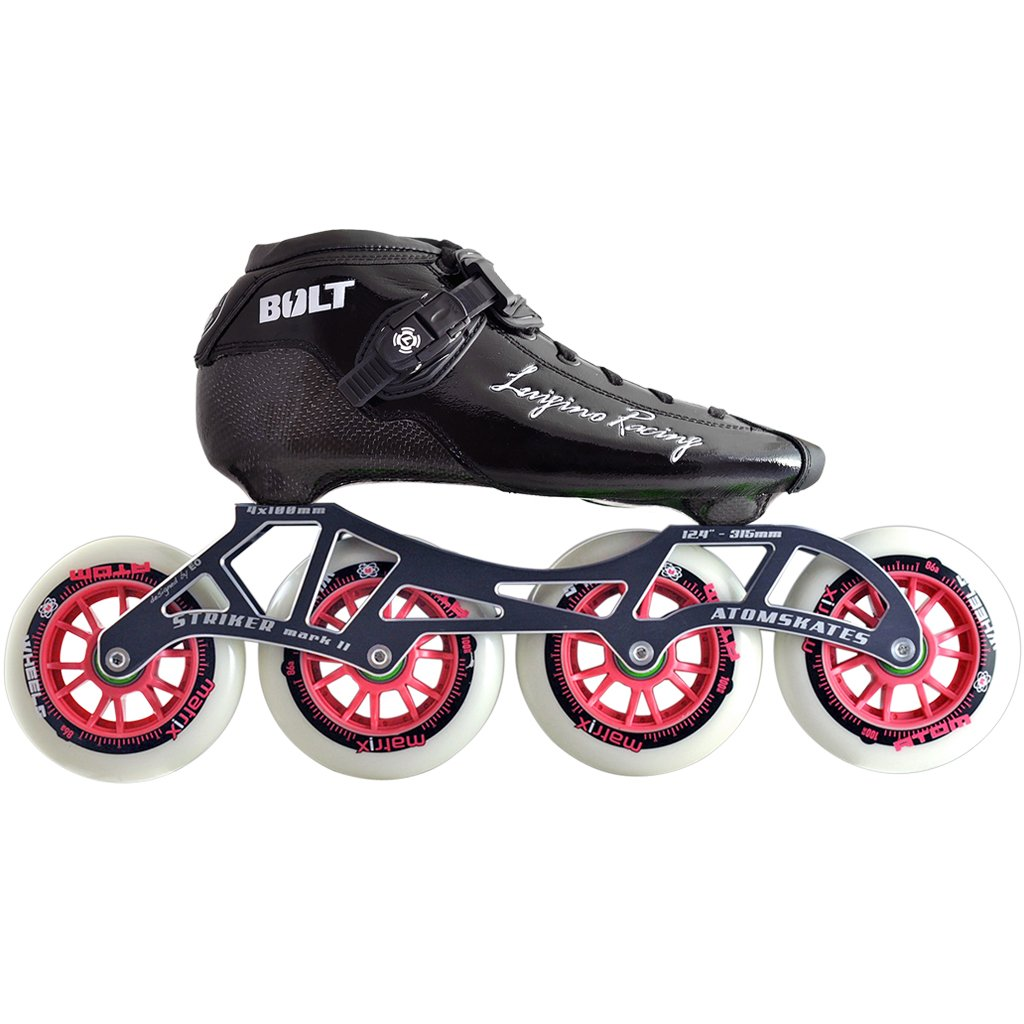roller_blade: (15, 228, 1024, 780)
